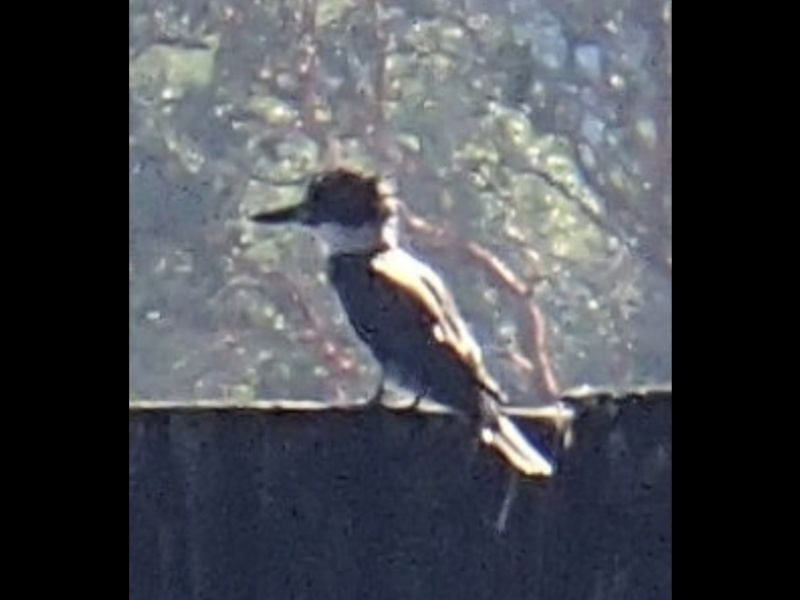kingfisher: (247, 168, 557, 475)
